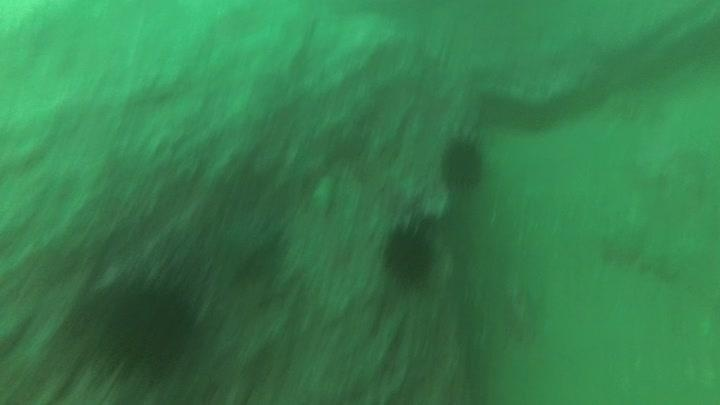echinus: (85, 273, 199, 386), (376, 217, 442, 291), (436, 130, 490, 194)
holothurian: (598, 227, 682, 282)
